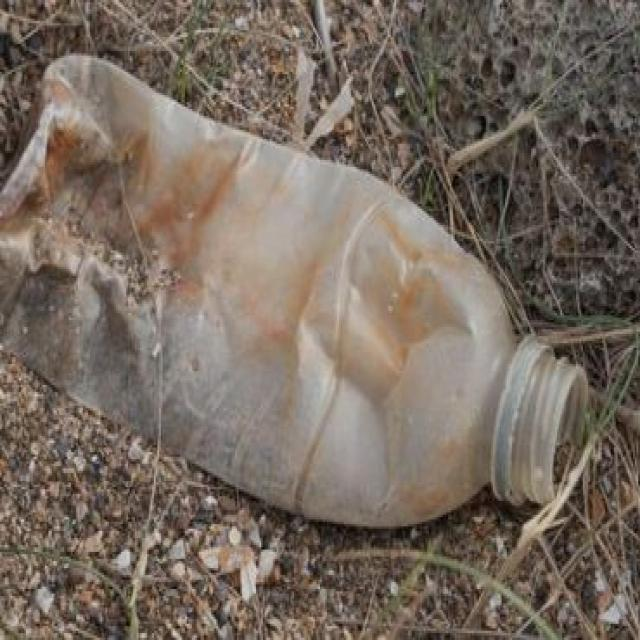general: (0, 49, 590, 528)
